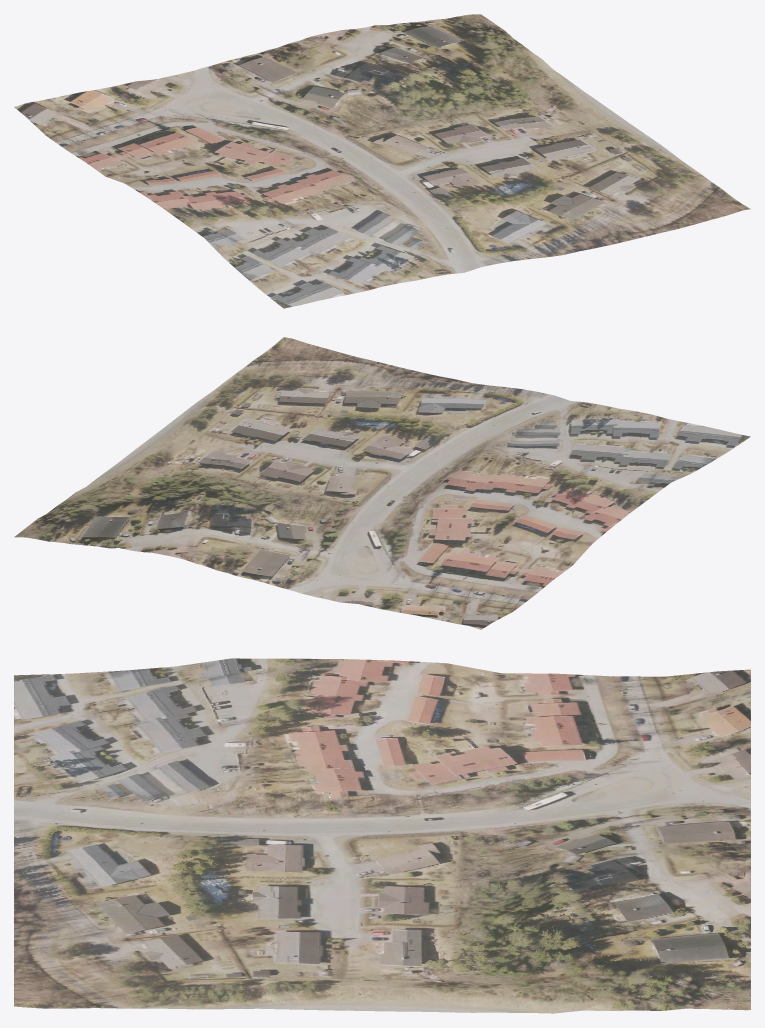
Rendered from CM_Terrain_24493121_6814879.fbx.
3 views of the same model, one above another, from view 1: azimuth 30°, elevation 25°; view 2: azimuth 150°, elevation 25°; view 3: azimuth 270°, elevation 25° (orthographic). The views are drawn at different scales.
Parts seen in each view (by area): view 1: CM_Terrain_24493121_6814879_LOD0; view 2: CM_Terrain_24493121_6814879_LOD0; view 3: CM_Terrain_24493121_6814879_LOD0.
Boxes of the visible parts, x1,y1,x2,y2 form: CM_Terrain_24493121_6814879_LOD0: (14, 14, 750, 308); CM_Terrain_24493121_6814879_LOD0: (14, 337, 750, 629); CM_Terrain_24493121_6814879_LOD0: (14, 658, 750, 1013).
Size of what is drawn, in the model's own units: 205 by 13.38 by 205.
